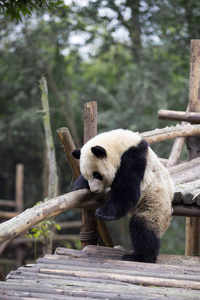panda: (74, 126, 175, 258)
